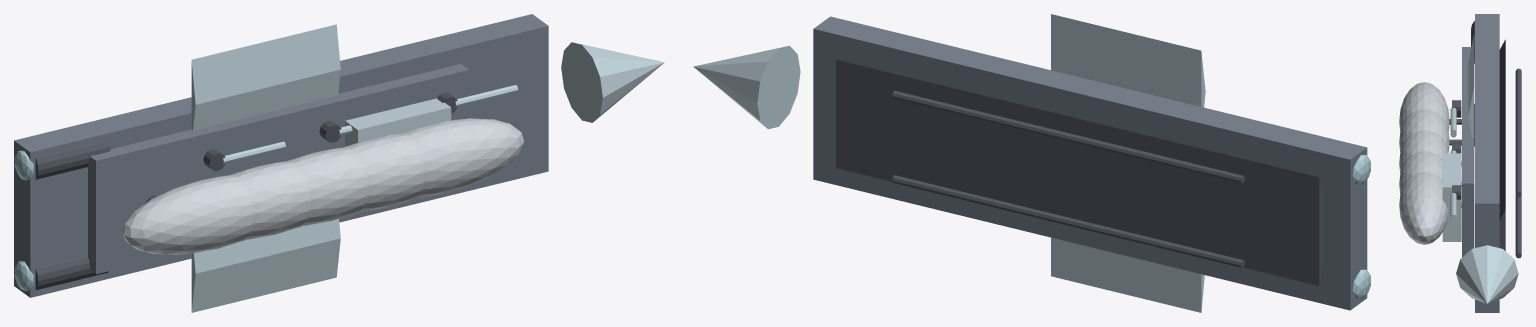
File: SWS-008_stormglass_carrier.glb
3 renders of one model, left to right at view 1: azimuth 30°, elevation 25°; view 2: azimuth 150°, elevation 25°; view 3: azimuth 270°, elevation 25°, orthographic. The views are drawn at different scales.
Parts seen in each view (by area): view 1: main_hull, upper_deck, wing_1, wing_-1, aether_lift_bladder_1, aether_lift_bladder_5, aether_nose, aether_lift_bladder_4, aether_lift_bladder_2, aether_lift_bladder_3, bridge, engine_pod_1 (+5 smaller); view 2: keel, main_hull, wing_1, wing_-1, aether_nose, landing_skid_1, landing_skid_-1; view 3: main_hull, aether_lift_bladder_5, aether_nose, upper_deck, keel, bridge, aether_lift_bladder_1, aether_lift_bladder_2, aether_lift_bladder_3, aether_lift_bladder_4, landing_skid_1, wing_1 (+6 smaller).
Part boxes in pixels (x1,y1,x2,y2): main_hull: [14, 14, 548, 297]; upper_deck: [88, 64, 469, 274]; wing_1: [191, 24, 340, 130]; wing_-1: [191, 219, 340, 312]; aether_lift_bladder_1: [122, 175, 253, 254]; aether_lift_bladder_5: [402, 118, 524, 197]; aether_nose: [561, 42, 664, 122]; aether_lift_bladder_4: [344, 133, 424, 211]; aether_lift_bladder_2: [230, 161, 310, 239]; aether_lift_bladder_3: [287, 147, 367, 225]; bridge: [345, 98, 451, 146]; engine_pod_1: [35, 140, 110, 179]; keel: [836, 59, 1323, 285]; main_hull: [813, 16, 1367, 310]; wing_1: [1051, 14, 1205, 107]; wing_-1: [1051, 237, 1204, 312]; aether_nose: [693, 45, 800, 129]; landing_skid_1: [892, 91, 1245, 183]; landing_skid_-1: [892, 175, 1245, 267]; main_hull: [1475, 14, 1499, 312]; aether_lift_bladder_5: [1399, 172, 1448, 244]; aether_nose: [1456, 245, 1518, 303]; upper_deck: [1462, 47, 1474, 257]; keel: [1499, 39, 1505, 250]; bridge: [1442, 153, 1461, 241]; aether_lift_bladder_1: [1399, 82, 1449, 130]; aether_lift_bladder_2: [1399, 109, 1449, 151]; aether_lift_bladder_3: [1399, 130, 1448, 172]; aether_lift_bladder_4: [1399, 151, 1442, 193]; landing_skid_1: [1515, 68, 1521, 197]; wing_1: [1468, 33, 1474, 137].
Bounding box in the file's own units: 103 × 38.28 × 22.39.
